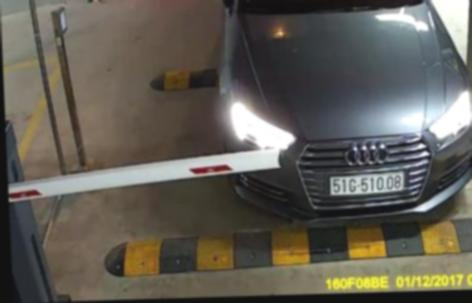License_Plate: (326, 171, 404, 197)
